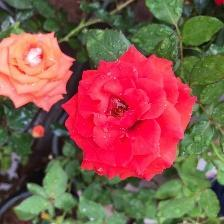rose: (80, 45, 195, 181), (1, 30, 77, 110)
